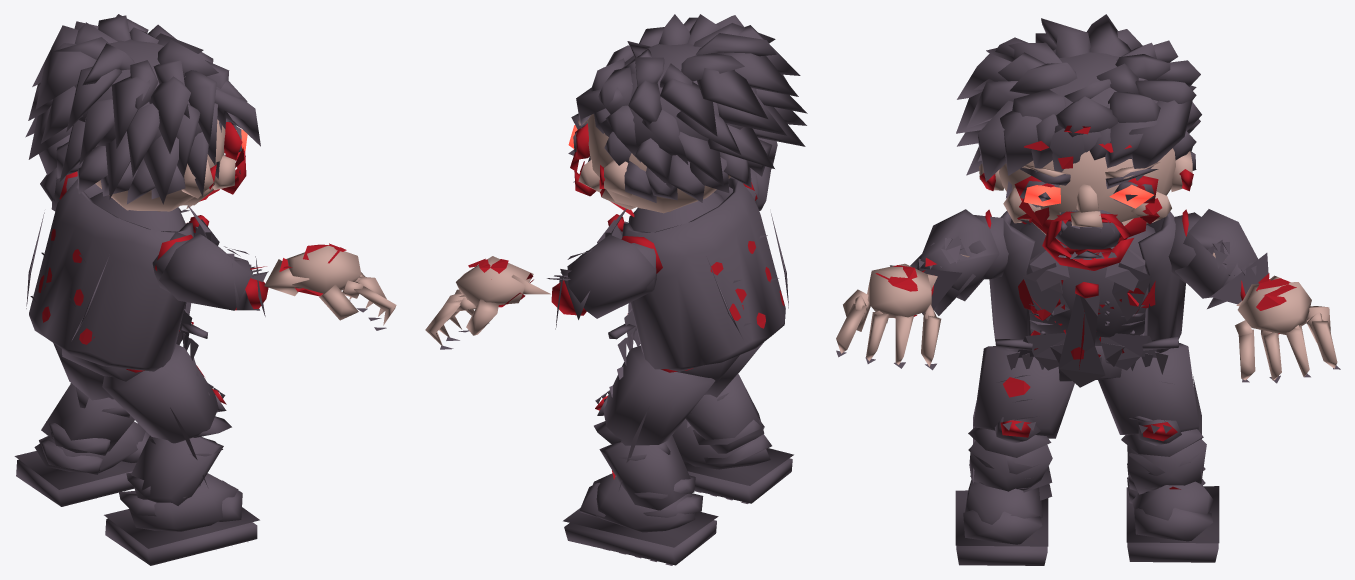
3 views of the same model, side by side, from view 1: azimuth 30°, elevation 25°; view 2: azimuth 150°, elevation 25°; view 3: azimuth 270°, elevation 25° (orthographic). The views are drawn at different scales.
Visible parts, largest first — view 1: head__alpha, torso__alpha, footR__alpha, legR__alpha, shinR__alpha, armR__alpha, footL__alpha, shinL__alpha, handR__alpha, foreArmR__alpha, legL__alpha, armL__alpha (+2 smaller); view 2: head__alpha, torso__alpha, footL__alpha, legL__alpha, shinL__alpha, armL__alpha, footR__alpha, shinR__alpha, handL__alpha, foreArmL__alpha, armR__alpha, legR__alpha (+2 smaller); view 3: head__alpha, torso__alpha, footR__alpha, footL__alpha, legR__alpha, legL__alpha, handL__alpha, handR__alpha, armL__alpha, armR__alpha, shinR__alpha, shinL__alpha (+2 smaller).
Part boxes in pixels (x1,y1,x2,y2): head__alpha: [25, 14, 260, 211]; torso__alpha: [26, 179, 219, 371]; footR__alpha: [104, 473, 259, 565]; legR__alpha: [102, 344, 226, 486]; shinR__alpha: [119, 416, 231, 516]; armR__alpha: [152, 232, 252, 310]; footL__alpha: [14, 421, 149, 506]; shinL__alpha: [39, 383, 134, 474]; handR__alpha: [286, 243, 396, 330]; foreArmR__alpha: [232, 256, 309, 316]; legL__alpha: [53, 343, 113, 400]; armL__alpha: [40, 167, 102, 211]; head__alpha: [568, 14, 807, 216]; torso__alpha: [597, 177, 788, 371]; footL__alpha: [563, 473, 718, 565]; legL__alpha: [595, 345, 715, 489]; shinL__alpha: [594, 421, 703, 517]; armL__alpha: [567, 234, 656, 318]; footR__alpha: [672, 419, 793, 503]; shinR__alpha: [685, 374, 771, 463]; handL__alpha: [425, 256, 533, 349]; foreArmL__alpha: [511, 269, 589, 329]; armR__alpha: [714, 166, 771, 210]; legR__alpha: [704, 342, 763, 397]; head__alpha: [956, 14, 1201, 270]; torso__alpha: [989, 211, 1185, 387]; footR__alpha: [955, 480, 1048, 565]; footL__alpha: [1126, 481, 1219, 562]; legR__alpha: [973, 346, 1074, 483]; legL__alpha: [1098, 343, 1201, 483]; handL__alpha: [1235, 278, 1340, 383]; handR__alpha: [836, 263, 941, 370]; armL__alpha: [1168, 209, 1258, 298]; armR__alpha: [917, 209, 1008, 301]; shinR__alpha: [968, 427, 1052, 500]; shinL__alpha: [1121, 429, 1206, 503].
Bounding box in the file's own units: 1.29 × 2.3 × 2.15.
